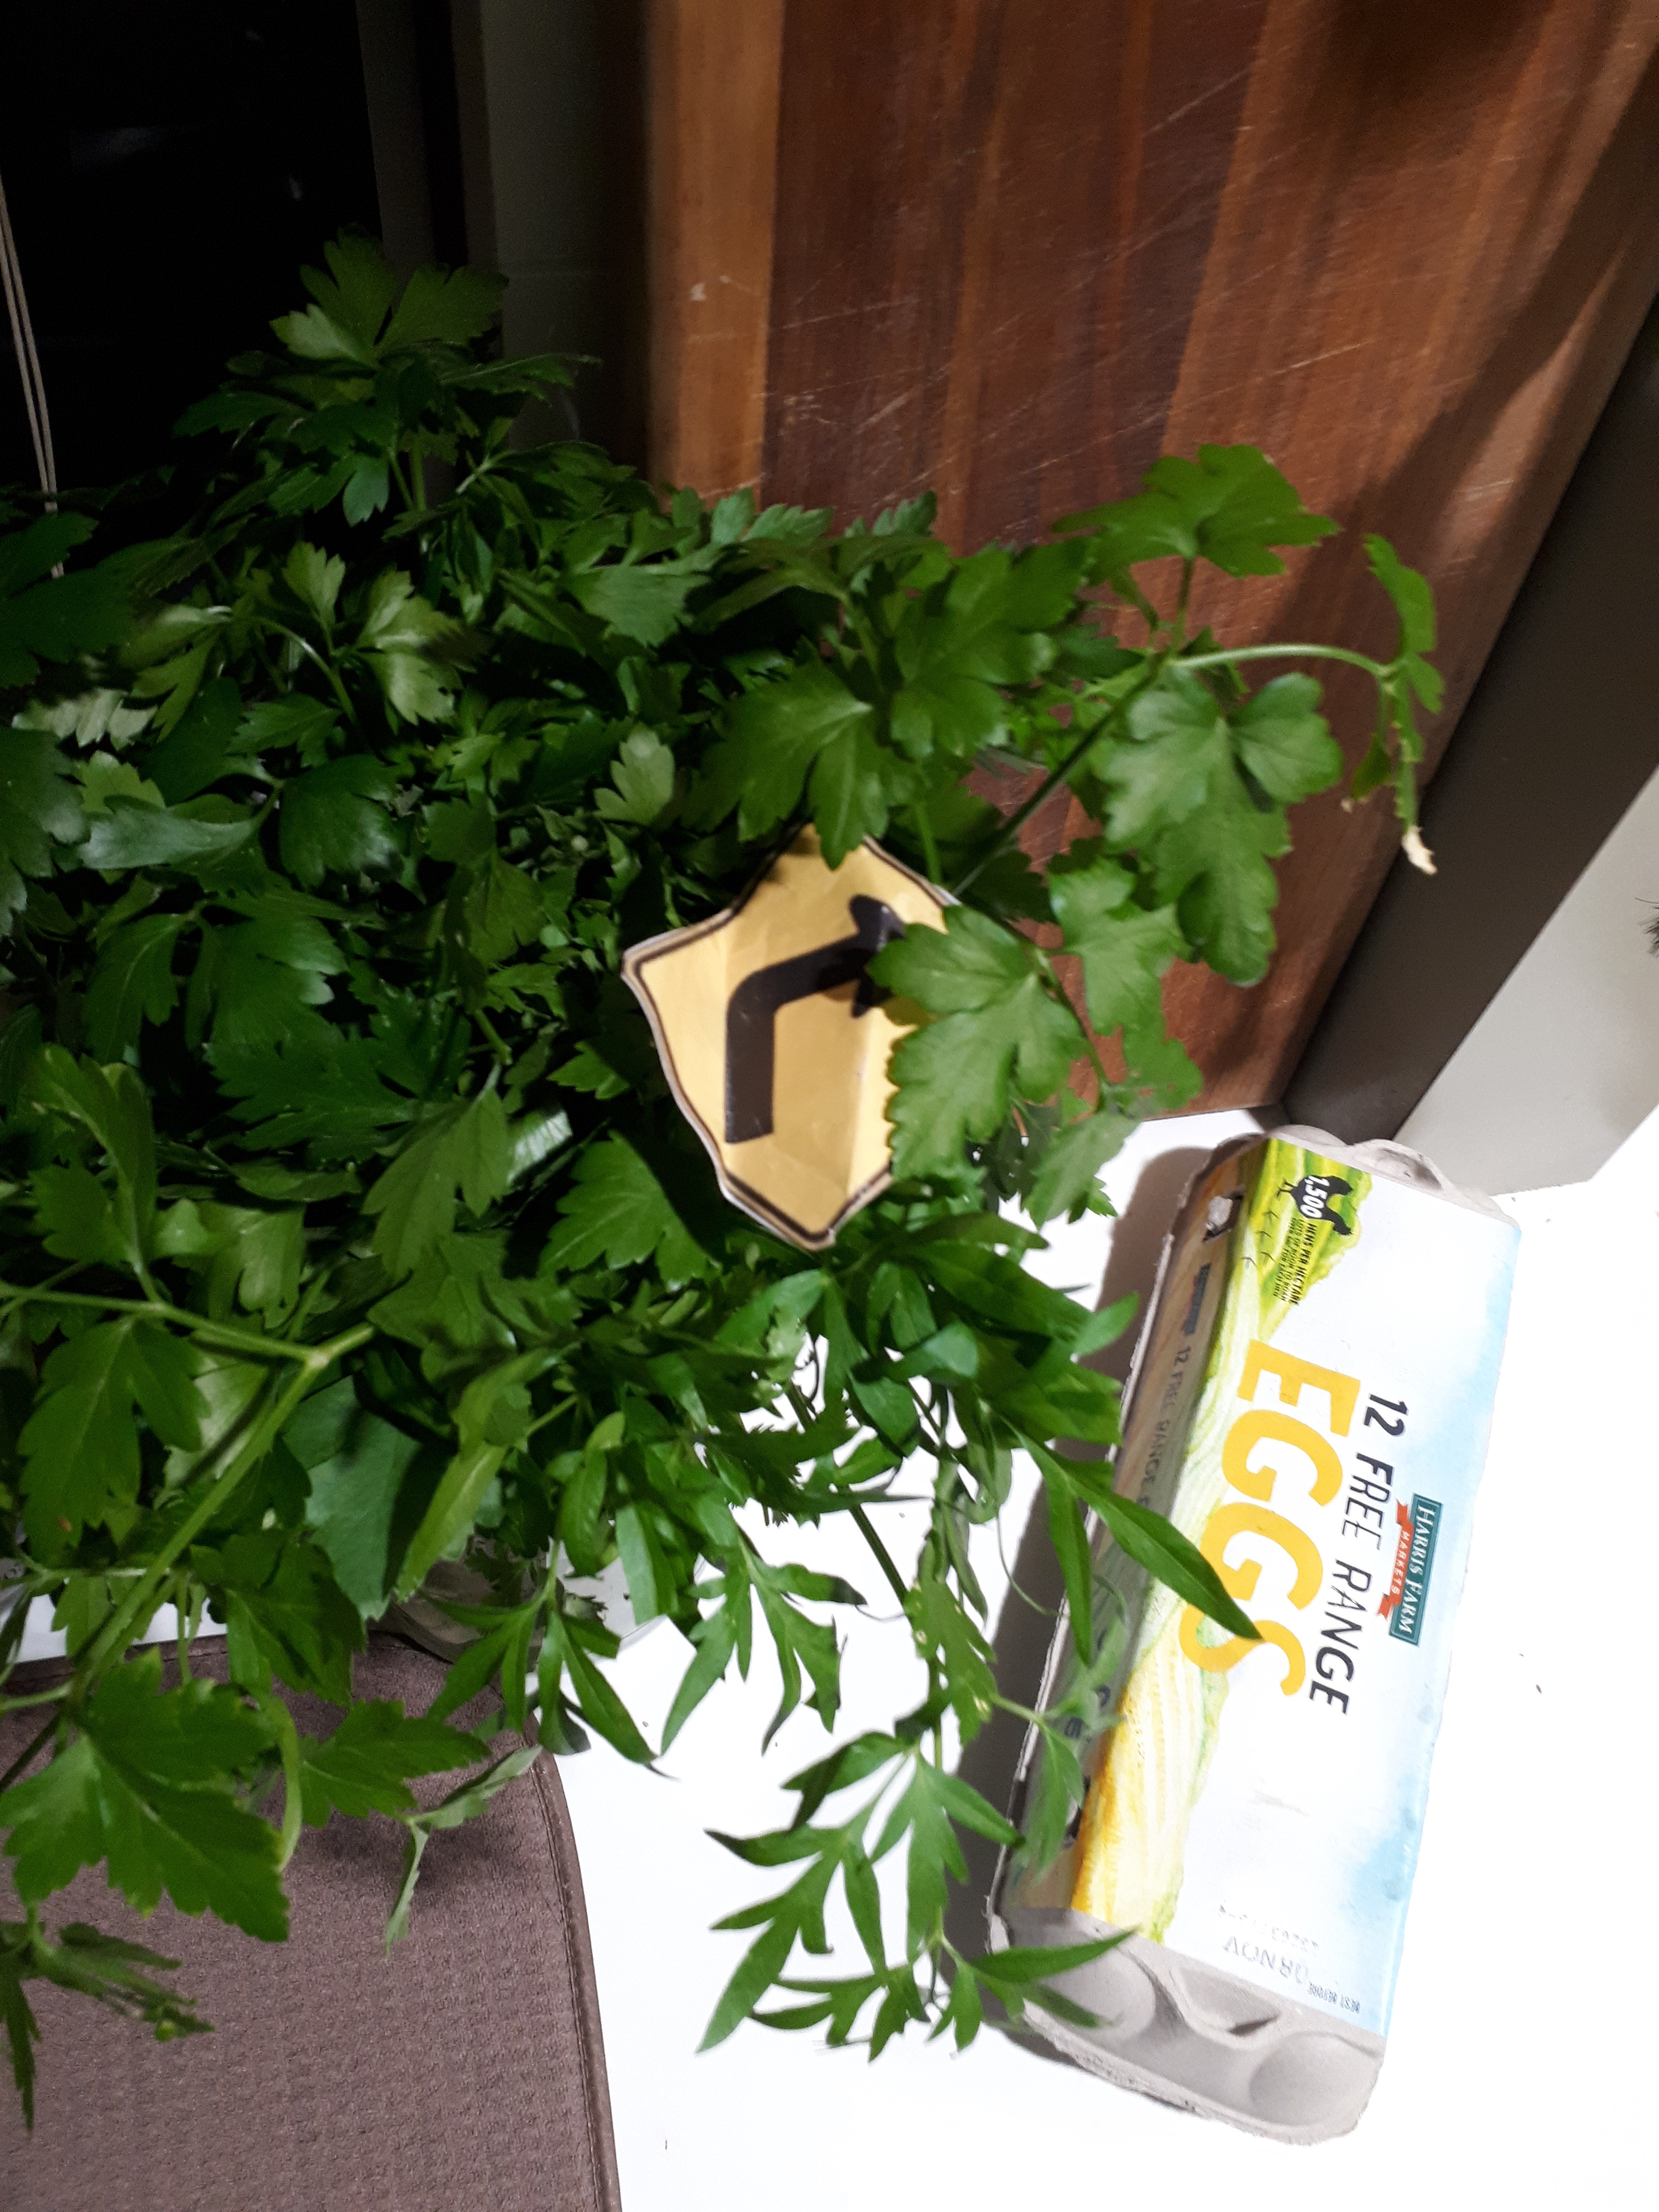right: (608, 822, 1026, 1240), (718, 887, 974, 1202)
